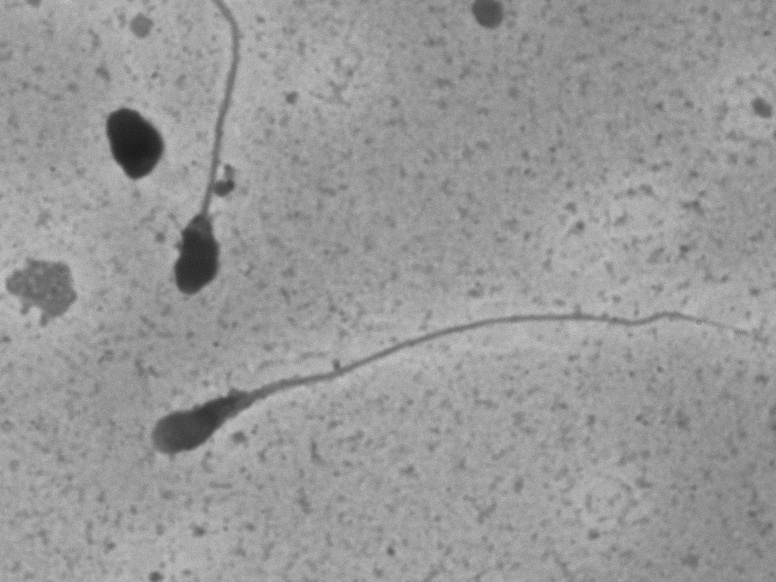Abnormal: (111, 259, 751, 489), (168, 5, 265, 322)
